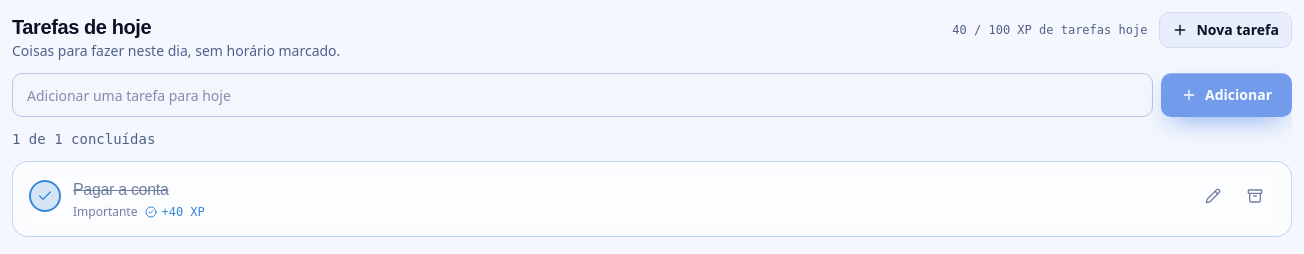
Test: TasksSection (tarefas na tela Hoje) › concluir e desfazer › desfazer envia o DELETE e avisa quantos XP voltaram
Click the button named "Desfazer “Pagar a conta”" at (45, 196), box [29,180,61,212]
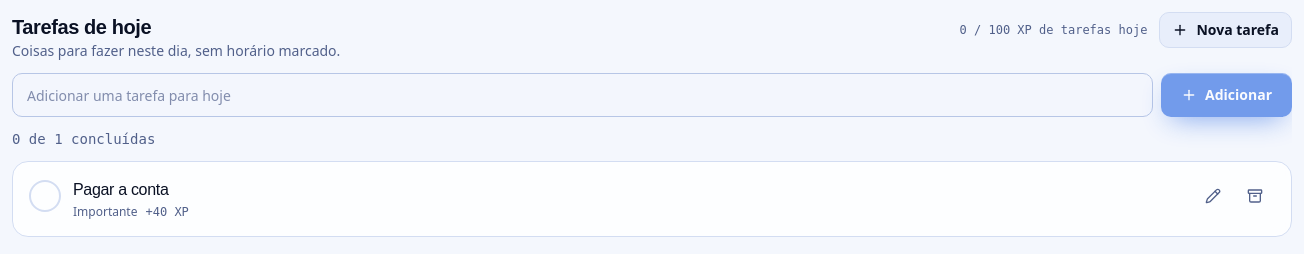
Expected: the button named "Concluir “Pagar a conta”" is shown, [29,180,61,212]
